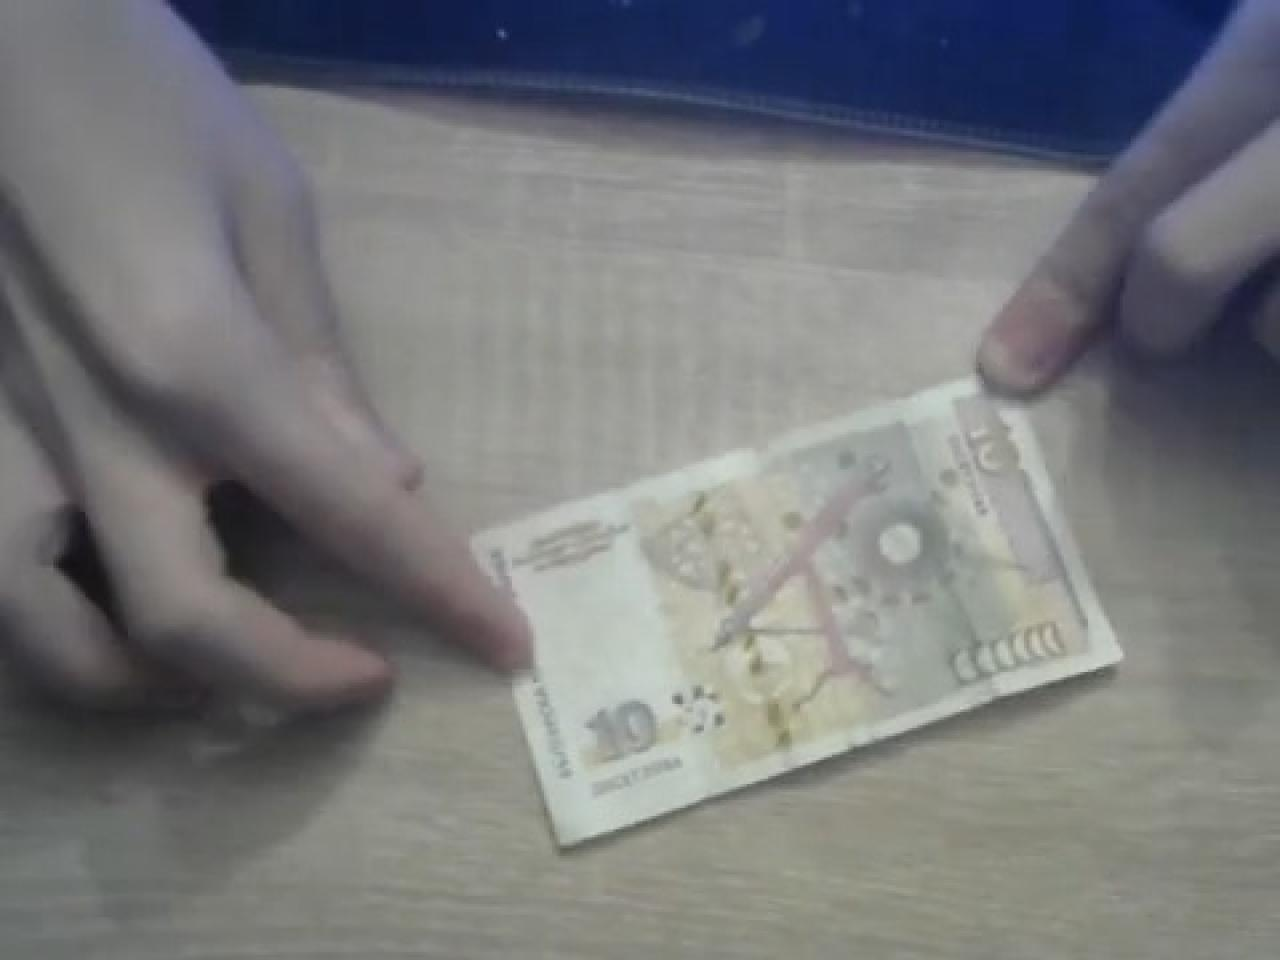10leva: (470, 381, 1126, 856)
